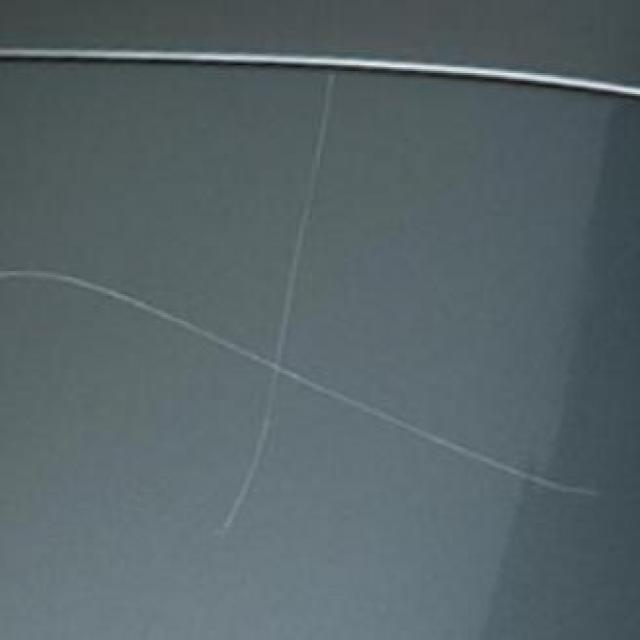scratch: (8, 258, 612, 501), (144, 61, 343, 566)
